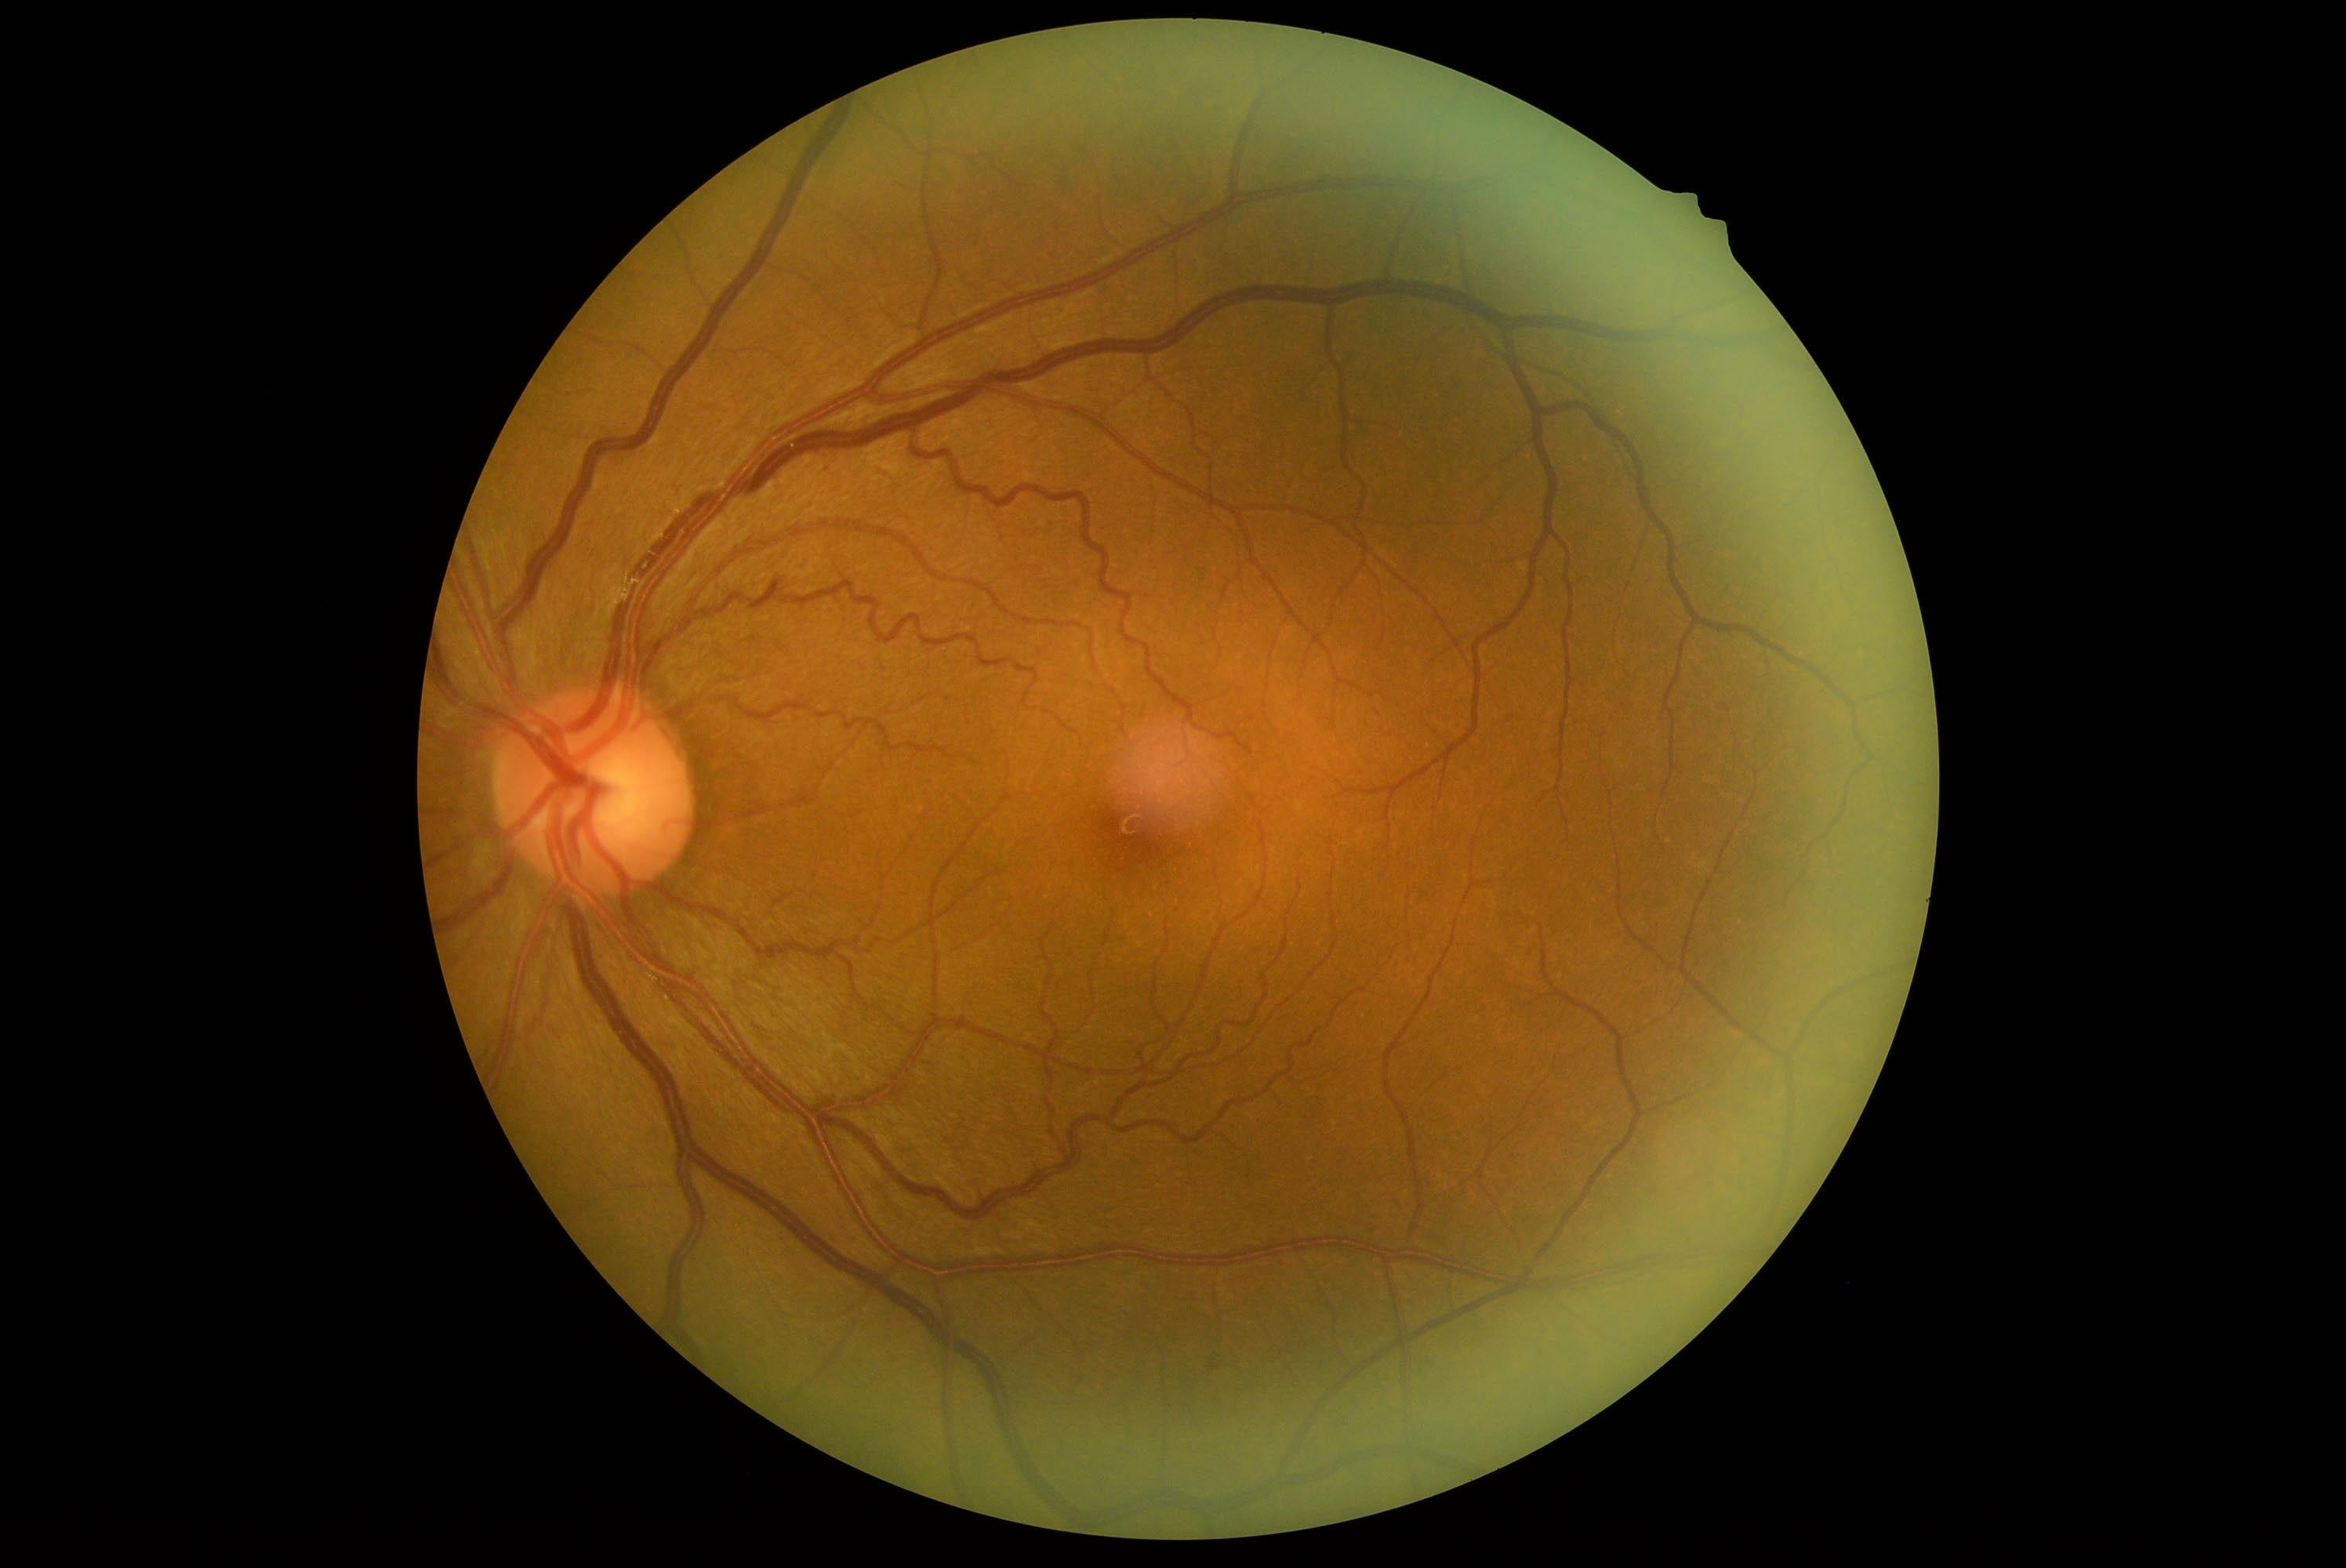Fovea: (1055, 746, 1207, 900)
